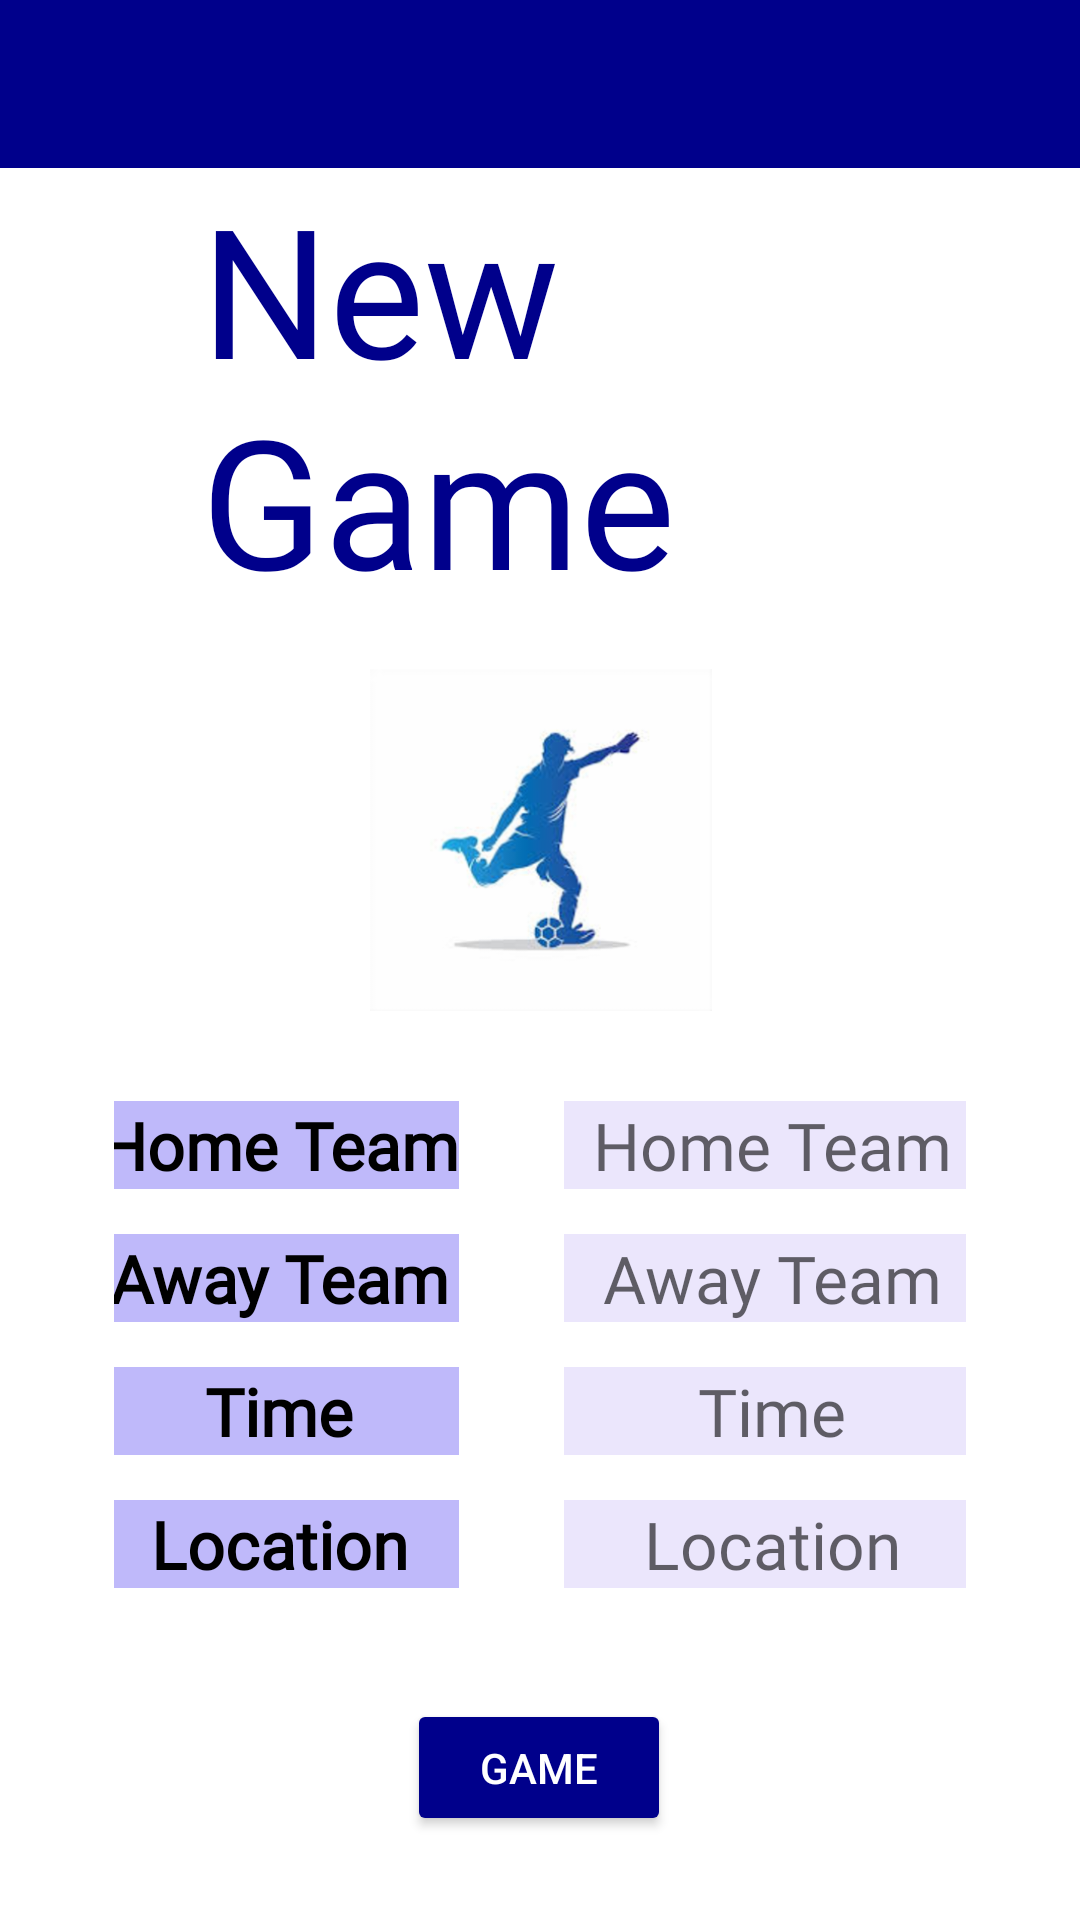

Named icons in this screenshot (1080x1920) and their bounding boxes, (x1, y1, x2, y2):
playerfoot: (441, 732, 640, 950)
